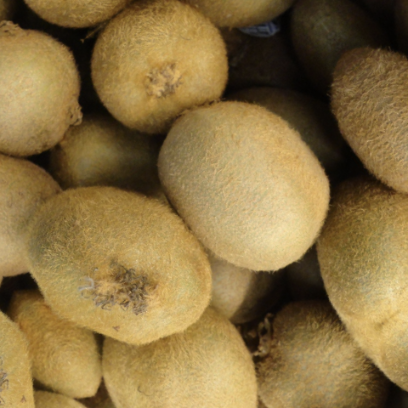kiwi: (107, 42, 373, 313), (0, 128, 251, 397), (63, 0, 265, 171), (74, 268, 293, 408)
